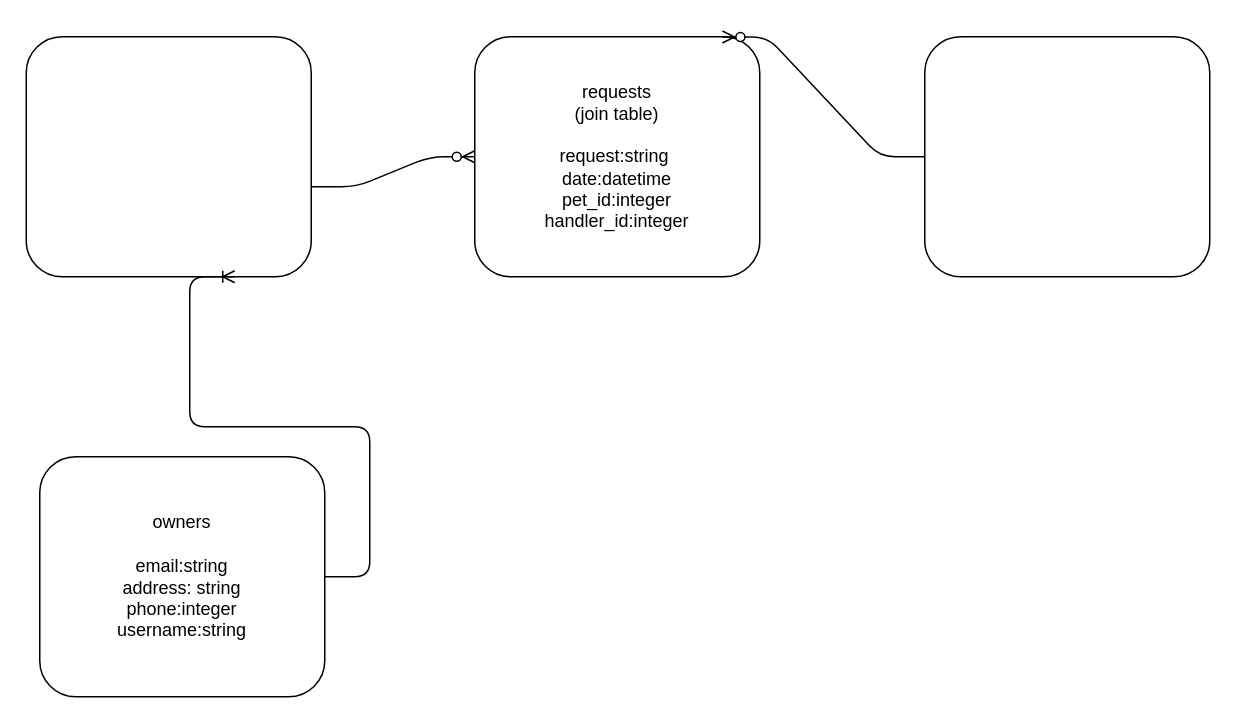
Image size: 1236x723. Some labels were removed from this diagram. The box of each missing label's shape, as (x1, y1, x2, y2) in pixels:
handler email:string phone:integer name:string: (923, 35, 1210, 277)
Pets breed:string image_url:string age:integer owner_id: integer: (25, 35, 311, 277)
